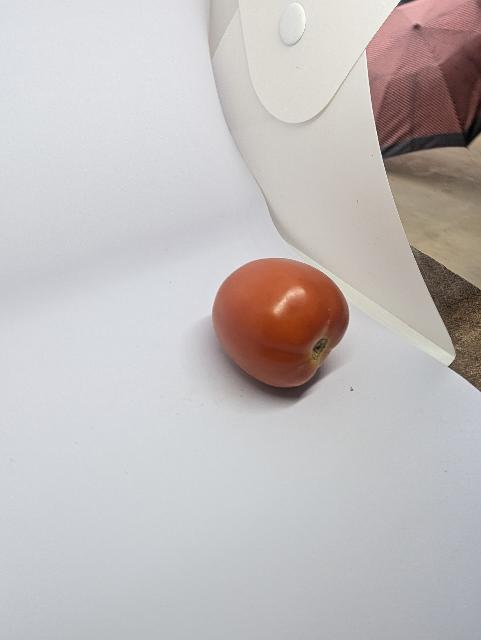red: (205, 246, 356, 402)
